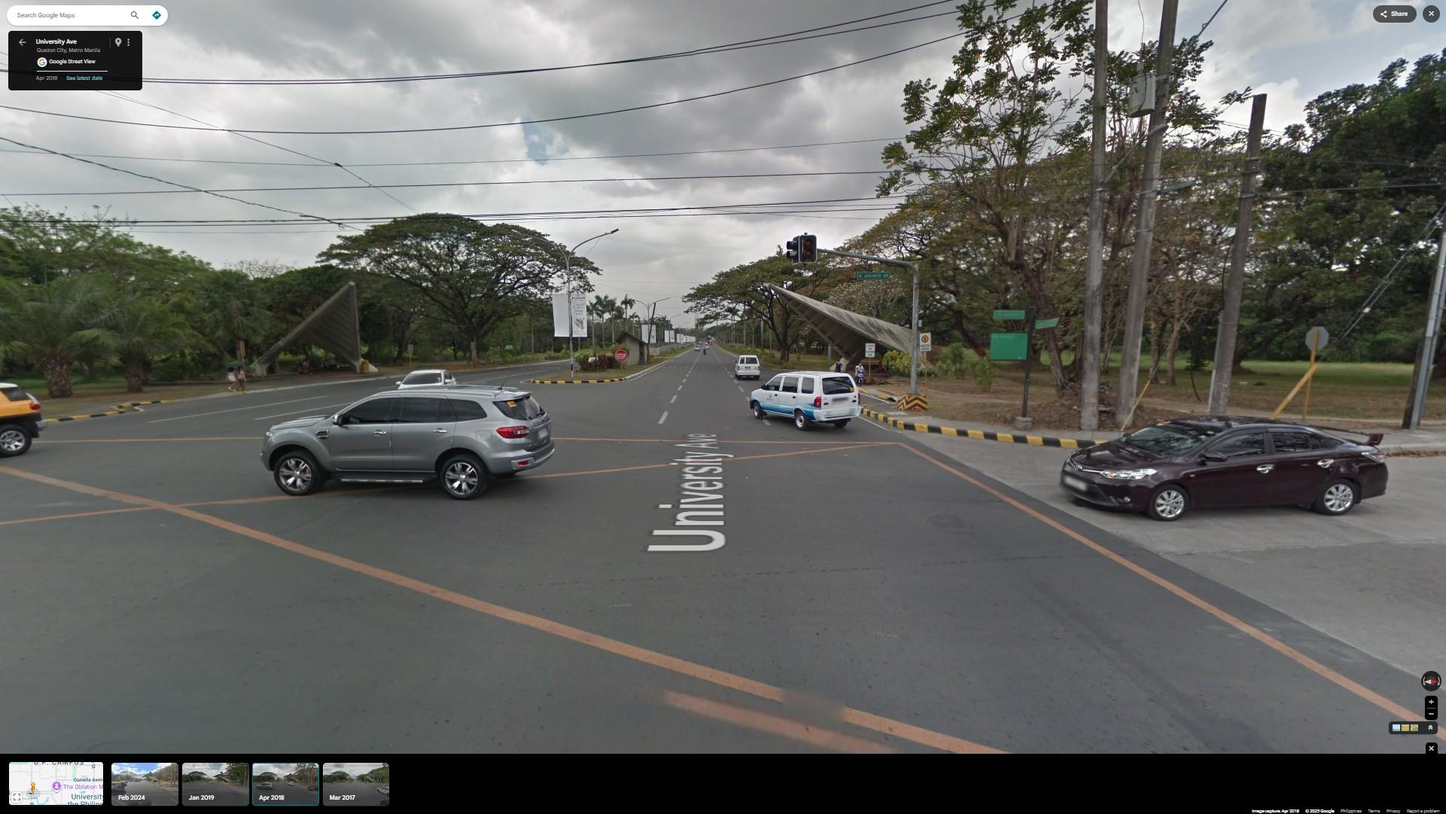pedestrian: (223, 364, 237, 392), (235, 364, 247, 394), (834, 359, 843, 381)
